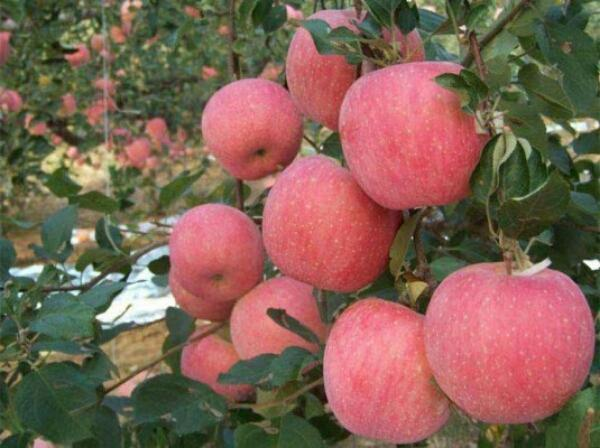apple: (421, 261, 596, 423), (335, 61, 483, 211), (262, 154, 400, 293), (321, 294, 450, 441), (285, 5, 429, 130), (200, 75, 302, 183), (228, 275, 336, 373), (167, 200, 267, 300)
